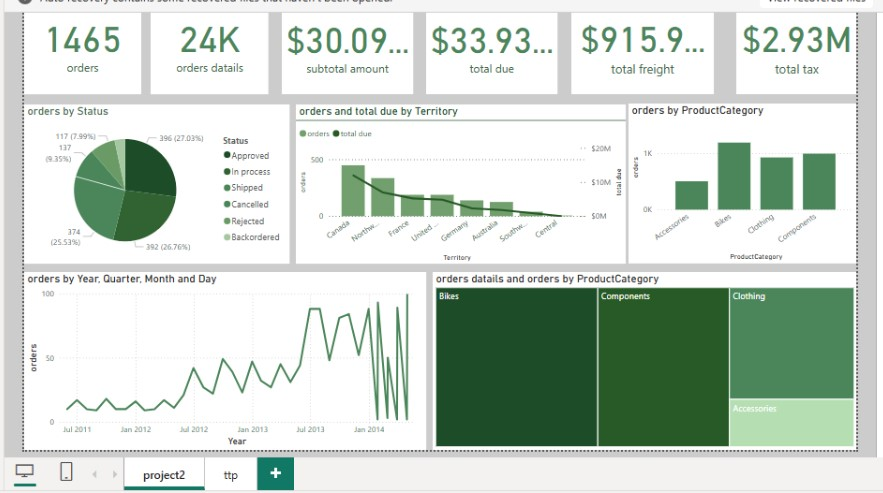

This screenshot's page, from the dashboard's own definition file:
{"tool":"powerbi","page":{"name":"project2","canvas":[1280,720],"ordinal":0},"visuals":[{"type":"card","fields":{"Values":["Dax measures.orders"]},"box":[0,13,180,159.8],"z":0},{"type":"card","fields":{"Values":["Dax measures.orders datails"]},"box":[194.4,13,181.4,159.8],"z":1000},{"type":"card","fields":{"Values":["Dax measures.subtotal amount"]},"box":[396,15.8,201.6,157],"z":2000},{"type":"card","fields":{"Values":["Dax measures.total due"]},"box":[617.8,15.8,201.6,157],"z":3000},{"type":"card","fields":{"Values":["Dax measures.total freight"]},"box":[841,15.8,218.9,157],"z":4000},{"type":"card","fields":{"Values":["Dax measures.total tax"]},"box":[1094.4,15.8,185.8,157],"z":5000},{"type":"pieChart","fields":{"Y":["Dax measures.orders"],"Category":["dim_status.Status"]},"box":[0,188.6,407.5,244.8],"z":6000},{"type":"lineChart","fields":{"Y":["Dax measures.orders"],"Category":["dim_orderdate.Date.Variation.Date Hierarchy.Year","dim_orderdate.Date.Variation.Date Hierarchy.Quarter","dim_orderdate.Date.Variation.Date Hierarchy.Month","dim_orderdate.Date.Variation.Date Hierarchy.Day"]},"box":[0,446.4,617.8,273.6],"z":7000},{"type":"treemap","fields":{"Group":["dim_product.ProductCategory","dim_product.ProductSubCategory","dim_product.Product"],"Values":["Dax measures.orders datails"]},"box":[627.8,446.4,652.3,273.6],"z":8000},{"type":"lineStackedColumnComboChart","fields":{"Category":["dim_territory.Territory"],"Y":["Dax measures.orders"],"Y2":["Dax measures.total due"]},"box":[417.6,188.6,506.9,244.8],"z":9000},{"type":"columnChart","fields":{"Category":["dim_product.ProductCategory Hierarchy.ProductCategory","dim_product.ProductCategory Hierarchy.ProductSubCategory","dim_product.ProductCategory Hierarchy.ProductID"],"Y":["Dax measures.orders"]},"box":[928.8,187.2,351.4,246.2],"z":10000}]}

Visuals, with their boxes on the page's 1280x720 design canvas (x1, y1, x2, y2). These are canvas units, not pixel positions in the 883x493 screenshot, which may show the page scaled, cropped or inside an application window:
card - Dax measures.orders: <bbox>0, 13, 180, 173</bbox>
card - Dax measures.orders datails: <bbox>194, 13, 376, 173</bbox>
card - Dax measures.subtotal amount: <bbox>396, 16, 598, 173</bbox>
card - Dax measures.total due: <bbox>618, 16, 819, 173</bbox>
card - Dax measures.total freight: <bbox>841, 16, 1060, 173</bbox>
card - Dax measures.total tax: <bbox>1094, 16, 1280, 173</bbox>
pieChart - Dax measures.orders x dim_status.Status: <bbox>0, 189, 408, 433</bbox>
lineChart - Dax measures.orders x dim_orderdate.Date.Variation.Date Hierarchy.Year: <bbox>0, 446, 618, 720</bbox>
treemap - dim_product.ProductCategory x dim_product.ProductSubCategory: <bbox>628, 446, 1280, 720</bbox>
lineStackedColumnComboChart - dim_territory.Territory x Dax measures.orders: <bbox>418, 189, 924, 433</bbox>
columnChart - dim_product.ProductCategory Hierarchy.ProductCategory x dim_product.ProductCategory Hierarchy.ProductSubCategory: <bbox>929, 187, 1280, 433</bbox>
